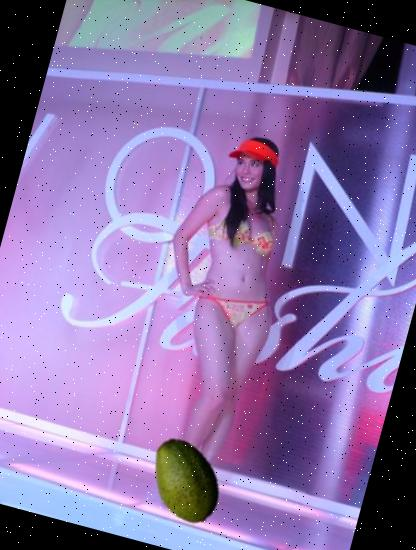Avocado: (130, 424, 242, 537)
